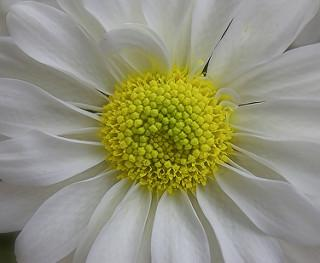daisy: (1, 1, 320, 263)
